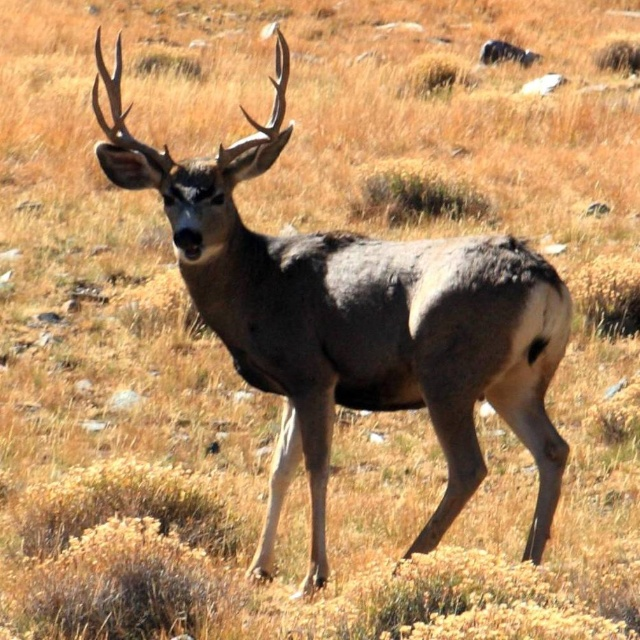Deer: (92, 25, 572, 603)
